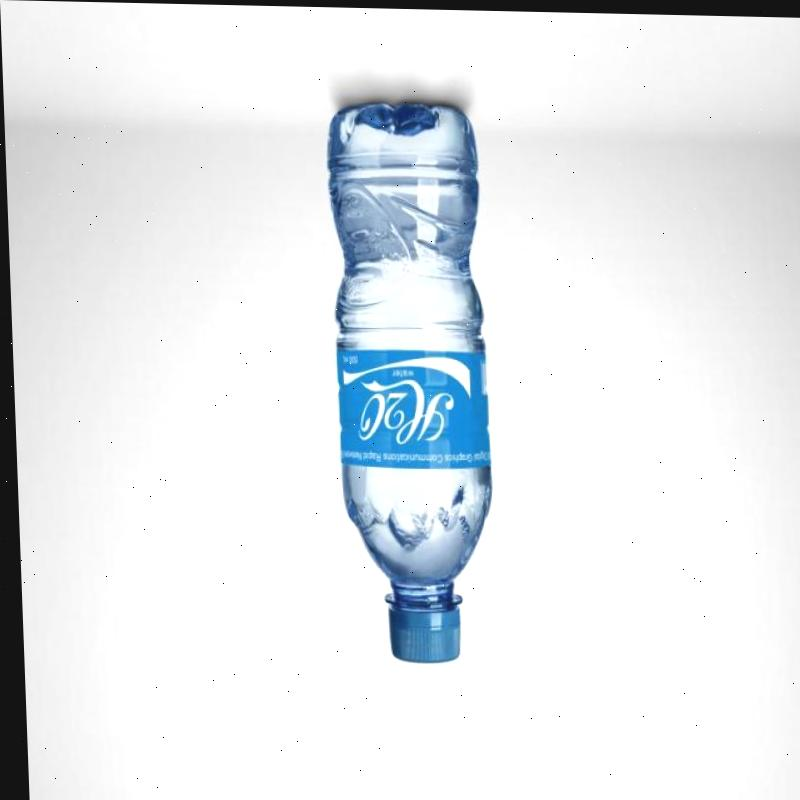botella: (314, 92, 499, 667)
